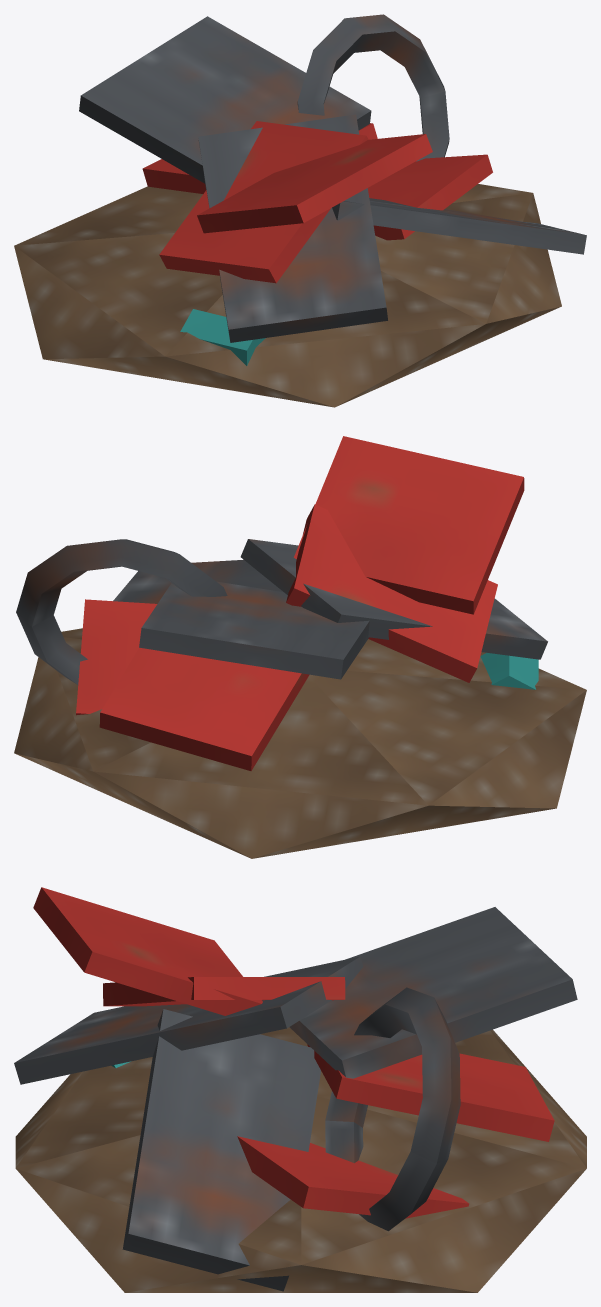
File: SM_ScrapPile01.fbx
3 renders of one model, top to bottom at view 1: azimuth 30°, elevation 25°; view 2: azimuth 150°, elevation 25°; view 3: azimuth 270°, elevation 25°, orthographic. The views are drawn at different scales.
Visible parts, largest first — view 1: SM_ScrapPile01; view 2: SM_ScrapPile01; view 3: SM_ScrapPile01.
Part boxes in pixels (x1,y1,x2,y2): SM_ScrapPile01: (14, 14, 586, 407); SM_ScrapPile01: (14, 436, 586, 858); SM_ScrapPile01: (14, 887, 586, 1292).
Bounding box in the file's own units: 4.33 × 2.09 × 3.75.
1 material, 1 textured.
